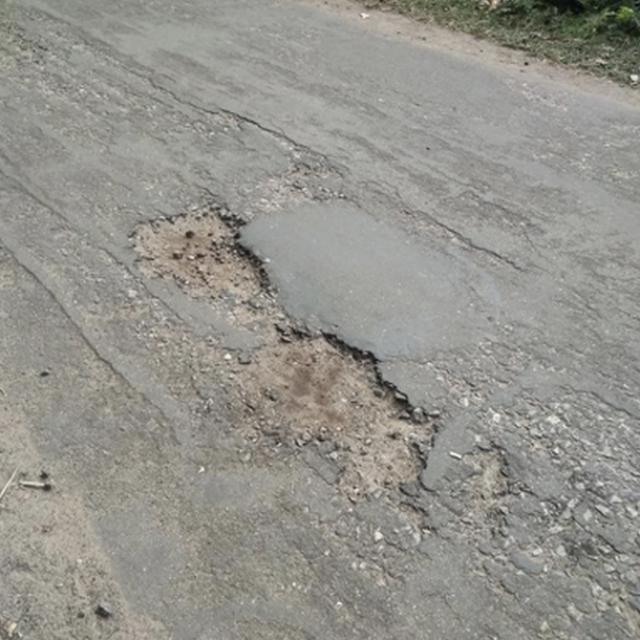Lubang: (262, 329, 434, 505), (138, 214, 282, 302)
